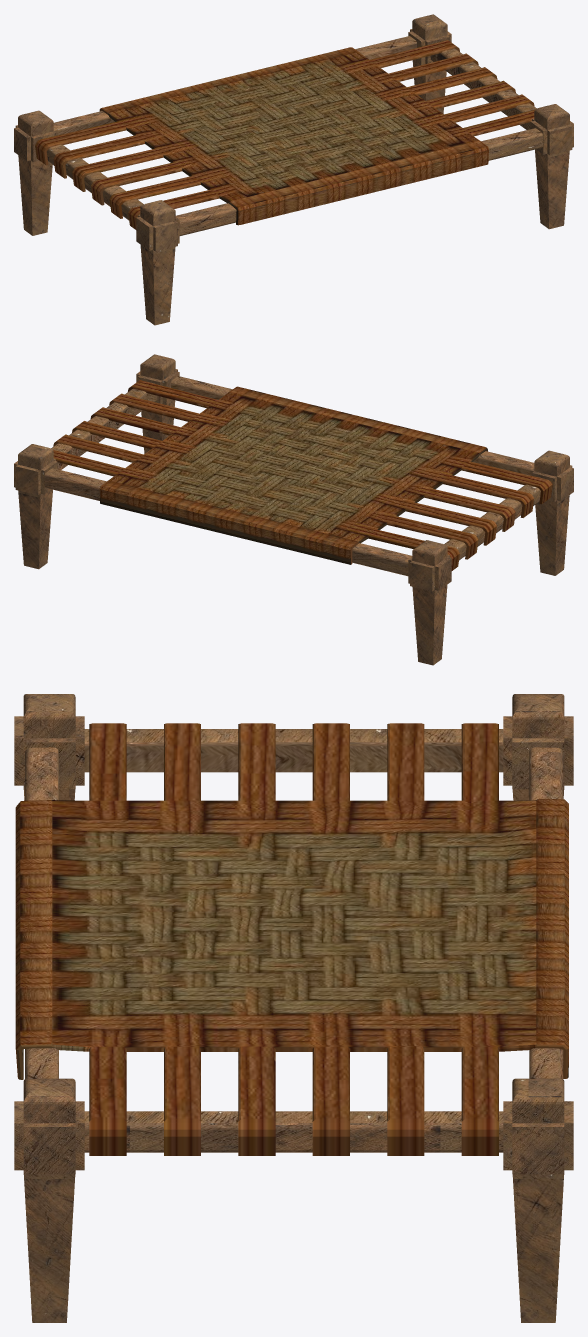
Rendered from khatiya.glb.
The picture shows the model from 3 angles, top to bottom: view 1: azimuth 30°, elevation 25°; view 2: azimuth 150°, elevation 25°; view 3: azimuth 270°, elevation 25°; orthographic projection. The views are drawn at different scales.
Visible parts, largest first — view 1: khatiya; view 2: khatiya; view 3: khatiya.
Boxes of the visible parts, x1,y1,x2,y2 form: khatiya: [14, 14, 573, 325]; khatiya: [14, 354, 573, 665]; khatiya: [14, 694, 573, 1322].
Size of the model in its own units: 8.73 by 2.26 by 4.98.
2 materials, 2 textured.
